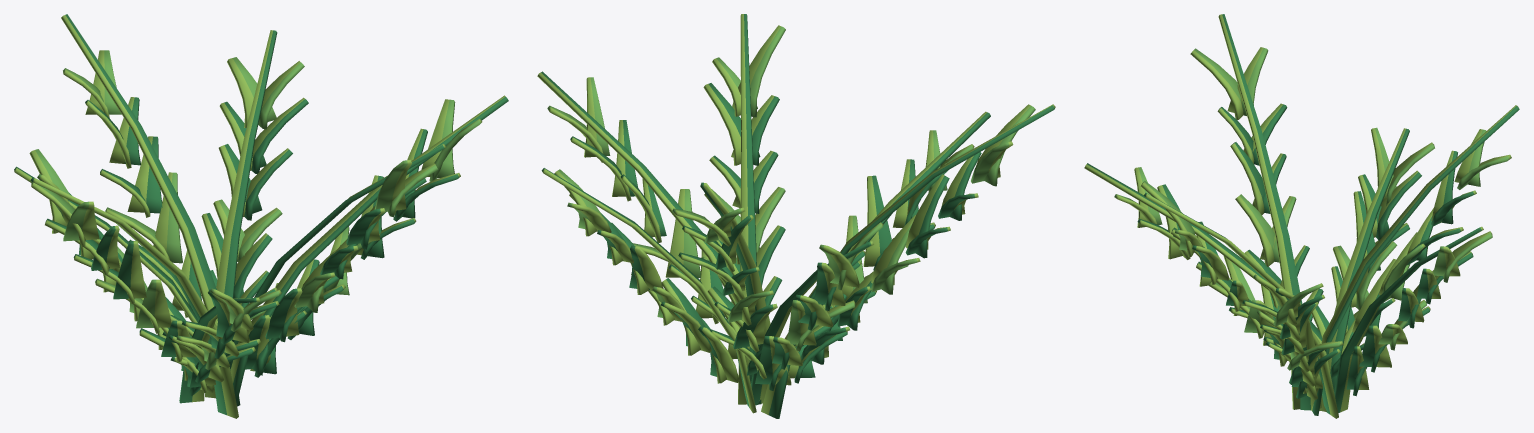
The model's file is fern_clump.glb.
3 views of the same model, side by side, from view 1: azimuth 30°, elevation 25°; view 2: azimuth 150°, elevation 25°; view 3: azimuth 270°, elevation 25° (orthographic). The views are drawn at different scales.
Parts seen in each view (by area): view 1: Fern central rib.001; view 2: Fern central rib.001; view 3: Fern central rib.001.
Part boxes in pixels (box(x1,y1,x2,y2)): Fern central rib.001: box(14, 14, 508, 418); Fern central rib.001: box(537, 14, 1055, 418); Fern central rib.001: box(1084, 14, 1519, 418).
Bounding box in the file's own units: 1.66 × 1.02 × 1.39.
